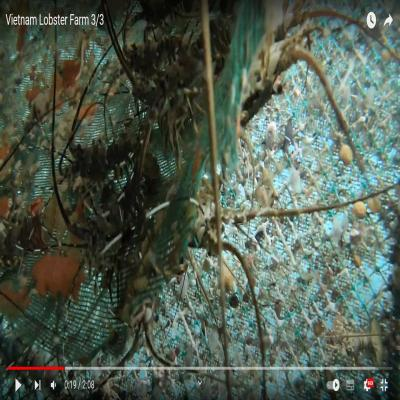lobster: (74, 135, 128, 182)
